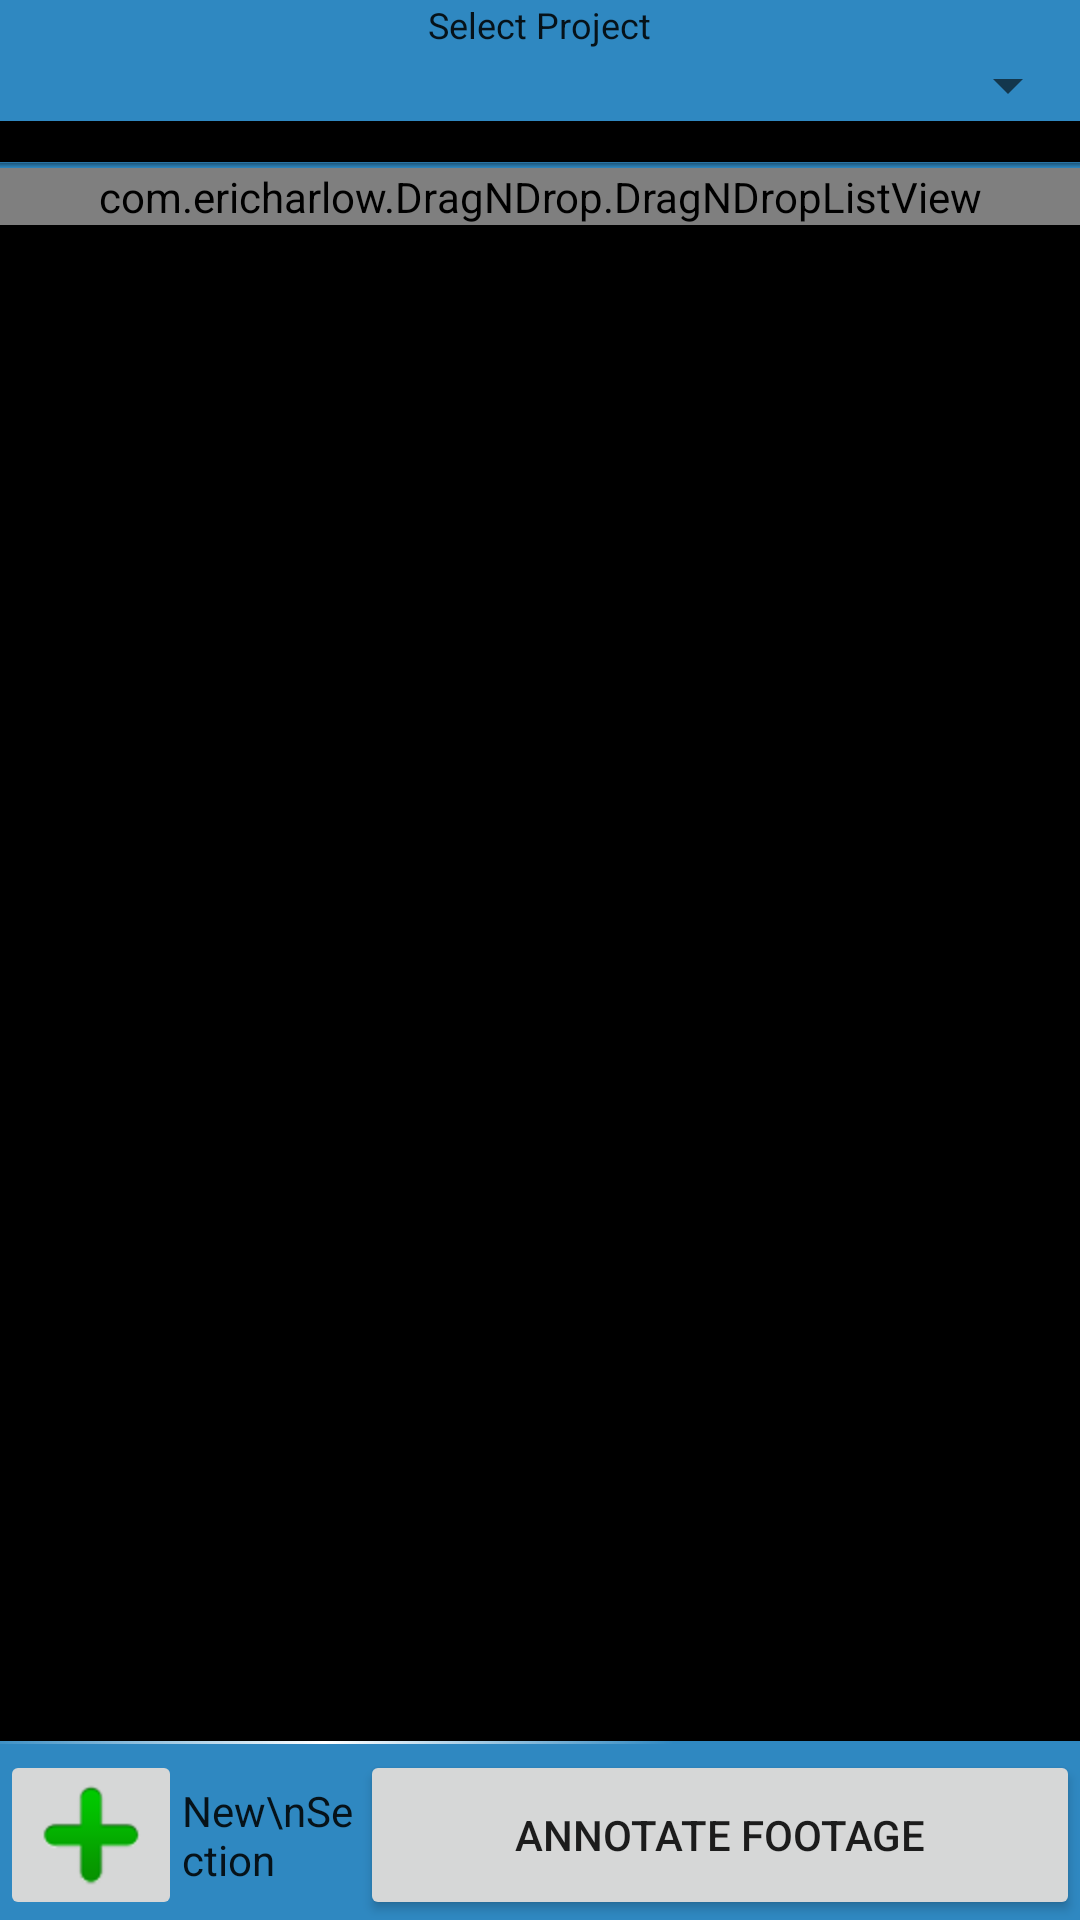

Named icons in this screenshot (1080 x 1920) and their centers, point (x, y):
plusbutton: point (91, 1835)
